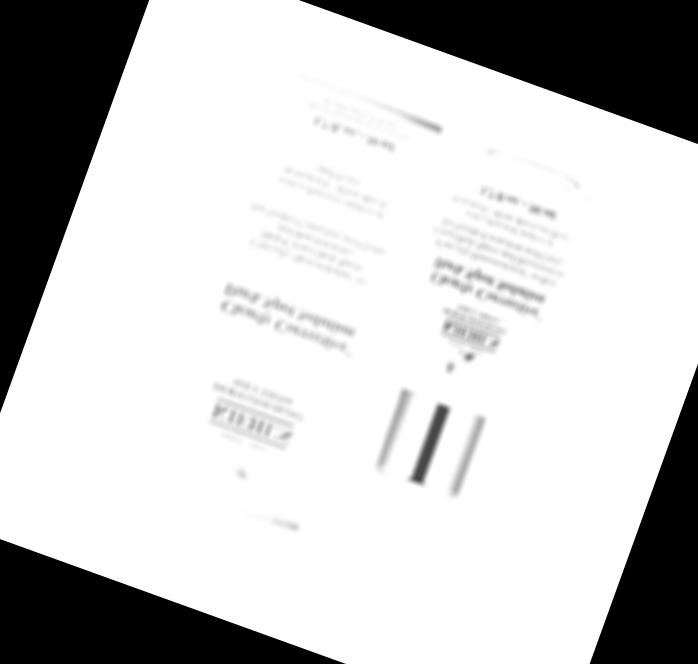cosmetic: (330, 152, 593, 579)
